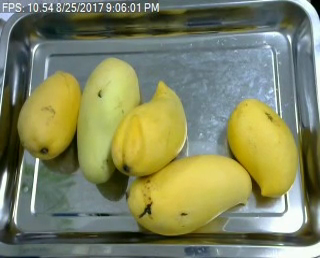Mango: (127, 153, 254, 237), (75, 58, 140, 182), (223, 96, 302, 198), (109, 79, 189, 174), (15, 67, 83, 163)
